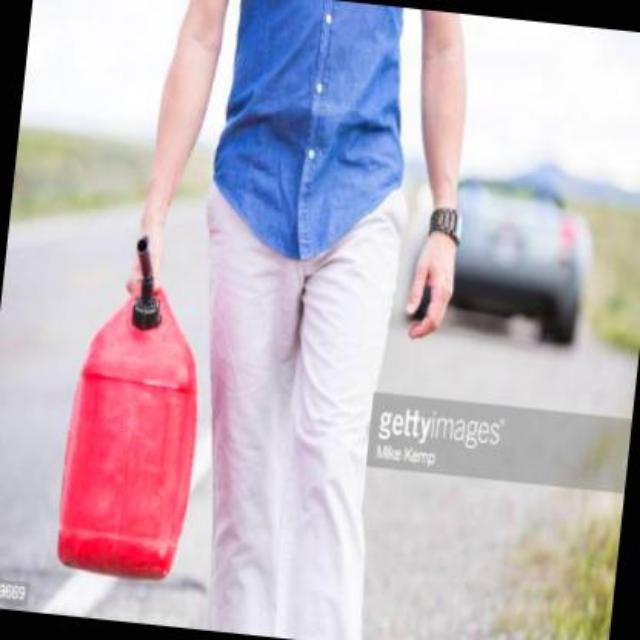chemical_plastic_gallon: (45, 242, 218, 588)
